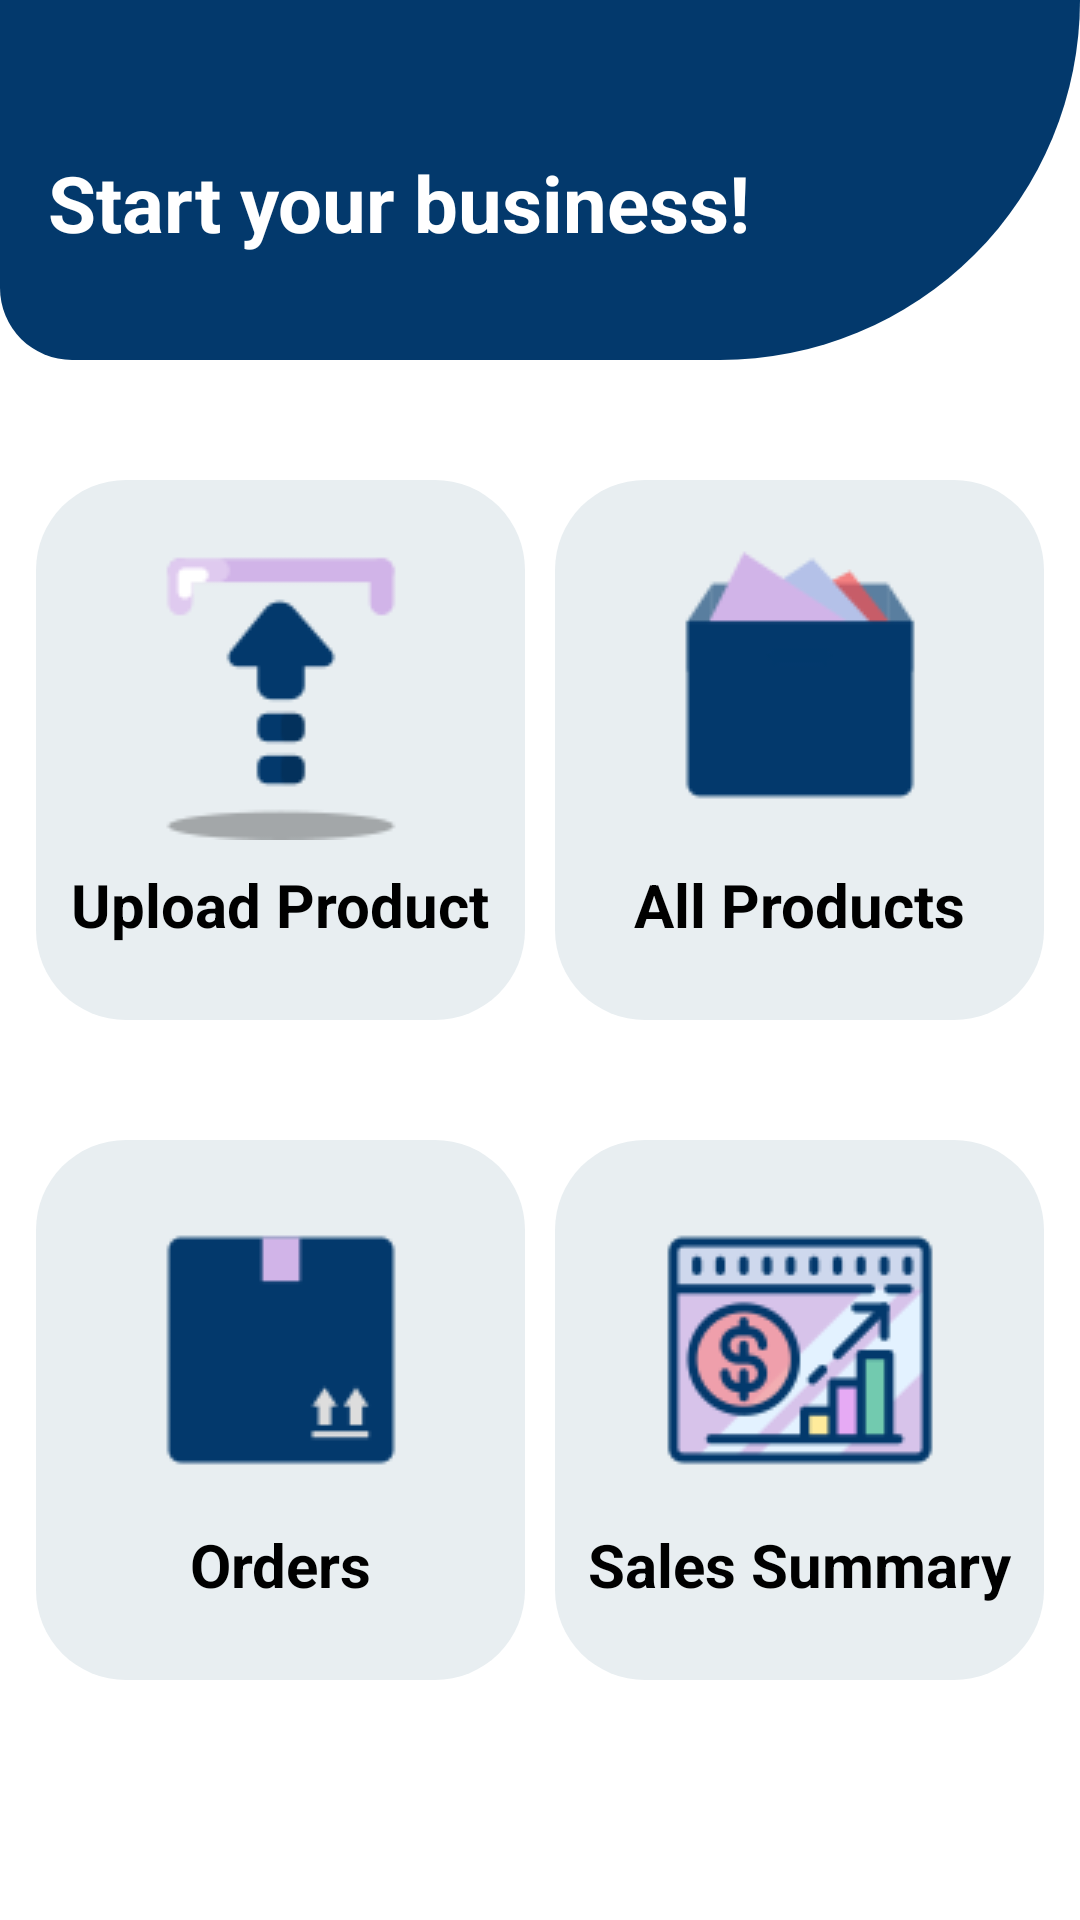

Where to tap for icons on this 1080 × 1920 app screen, as (x,y):
seller order: (281,1350)
